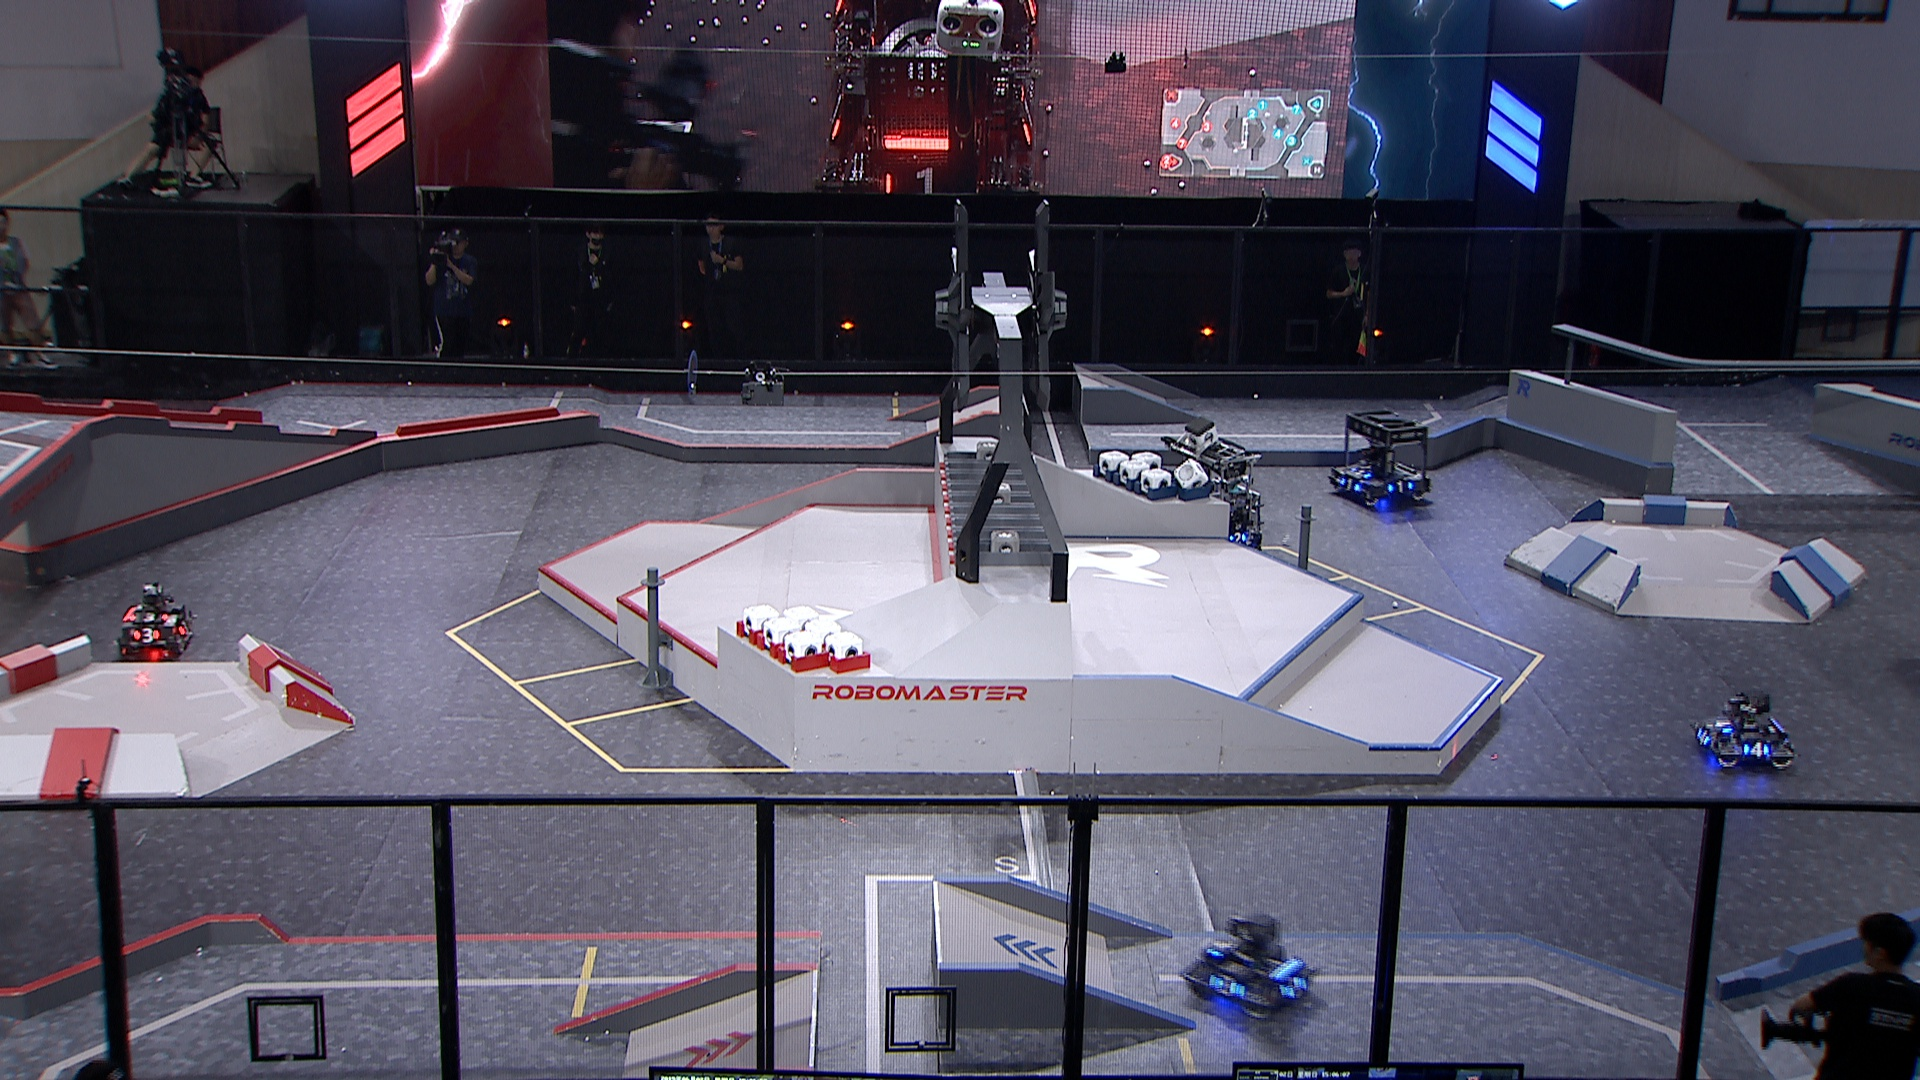armor: (1207, 973, 1247, 1001), (1280, 975, 1309, 1002), (1203, 938, 1232, 959), (1741, 740, 1770, 760), (128, 611, 167, 624), (133, 626, 161, 644), (1385, 480, 1414, 495), (1709, 717, 1735, 733), (1693, 725, 1712, 746), (1340, 476, 1362, 493), (1346, 467, 1371, 480), (1229, 529, 1247, 545), (175, 621, 193, 637)
car: (1178, 913, 1319, 1021), (1155, 436, 1265, 562), (1325, 410, 1429, 509), (1692, 688, 1799, 771), (112, 583, 195, 655)
ignore: (814, 0, 1040, 200)
